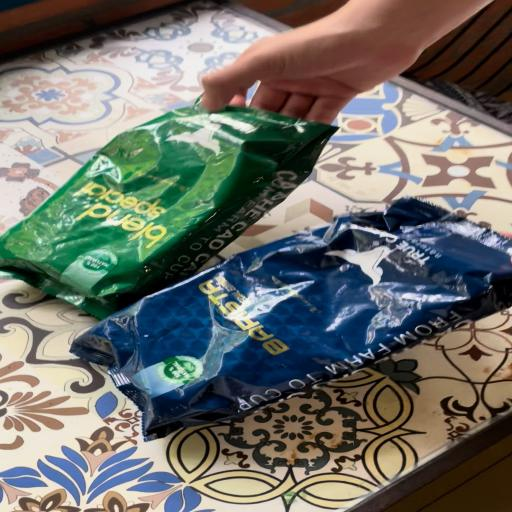cafe_hat: (70, 198, 512, 440)
cafe_xay: (0, 105, 335, 319)
